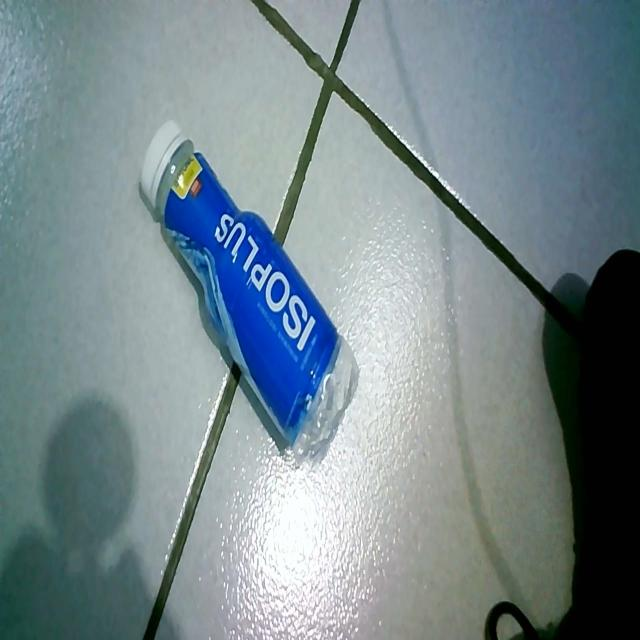botol: (138, 112, 360, 474)
